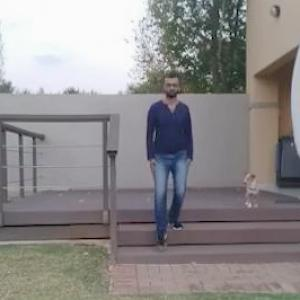follow: (143, 70, 187, 245)
